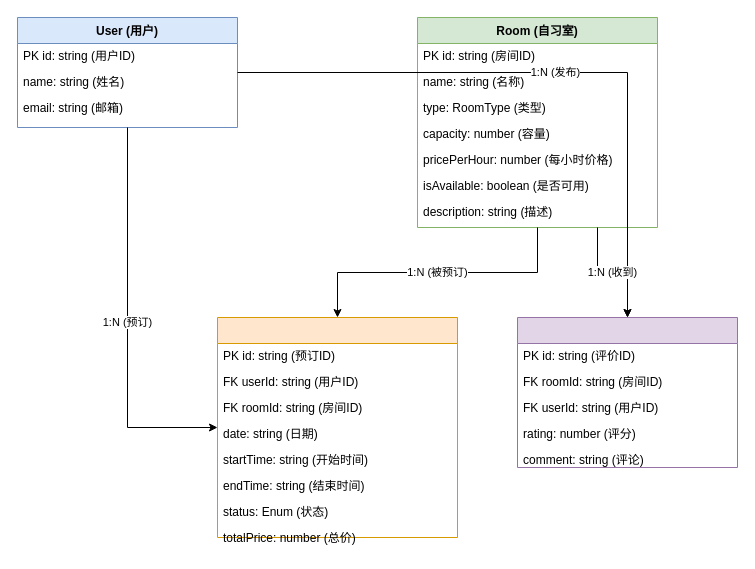
The diagram is 755 pixels wide and 569 high, and some of its shapes have lost their labels. The shapes that lost their labels are listed below. From the top down, each one's box as (x1, y1, x2, y2) in pixels, then its label:
(516, 316, 738, 468): Review (评价)
(216, 316, 458, 538): Booking (预订)
